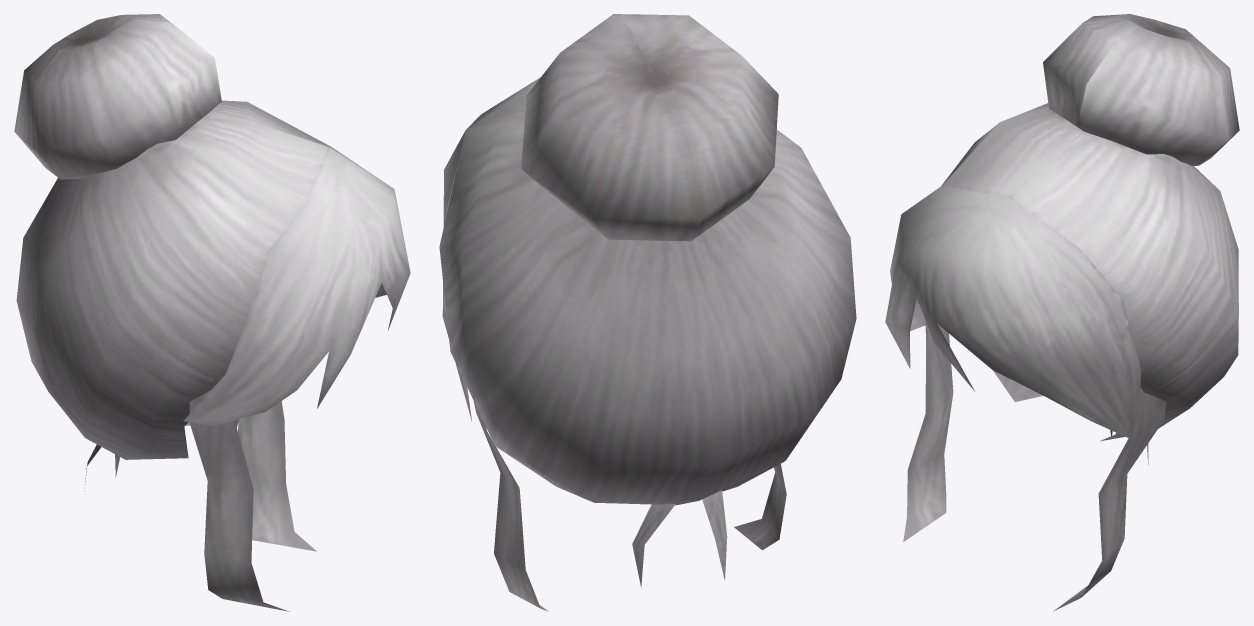
The model's file is GHair_0.glb.
3 renders of one model, left to right at view 1: azimuth 30°, elevation 25°; view 2: azimuth 150°, elevation 25°; view 3: azimuth 270°, elevation 25°, orthographic. The views are drawn at different scales.
Visible parts, largest first — view 1: #G1N; view 2: #G1N; view 3: #G1N.
Boxes of the visible parts, x1,y1,x2,y2 form: #G1N: (14, 14, 410, 611); #G1N: (439, 14, 856, 611); #G1N: (885, 14, 1239, 611).
Size of the model in its own units: 0.0308 by 0.0482 by 0.0298.
Materials: 1 (1 with a texture image).
